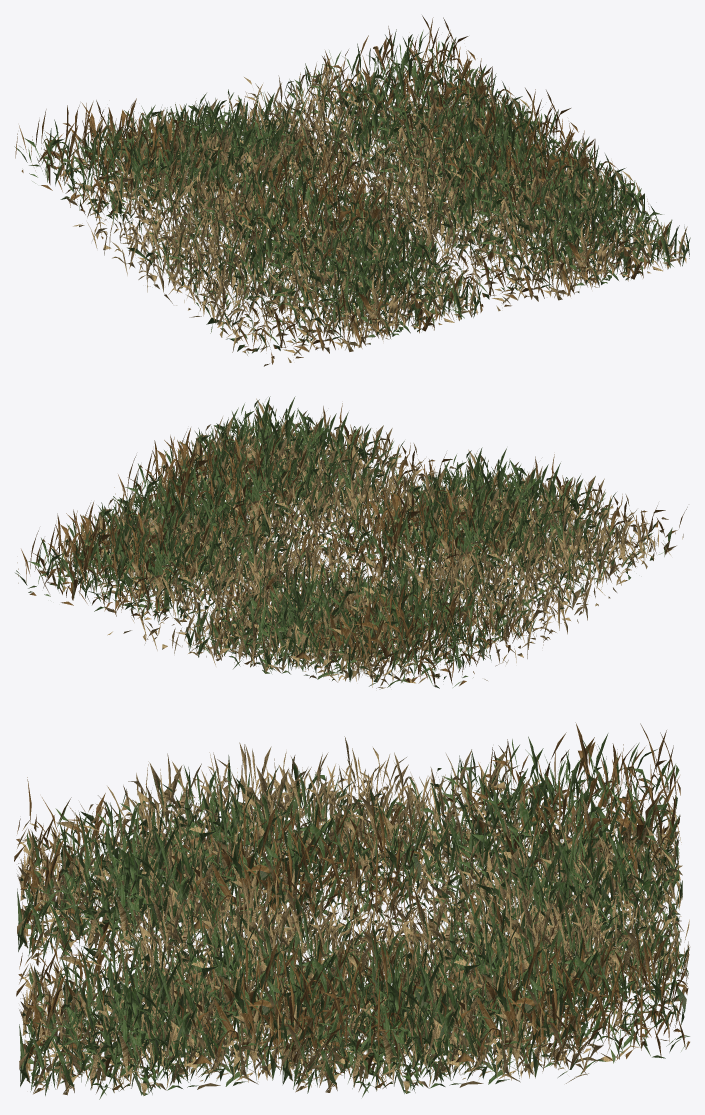
File: Grass (1).glb
3 renders of one model, top to bottom at view 1: azimuth 30°, elevation 25°; view 2: azimuth 150°, elevation 25°; view 3: azimuth 270°, elevation 25°, orthographic. The views are drawn at different scales.
Parts seen in each view (by area): view 1: Grass_Basic-dry_A_spring-summer.003; view 2: Grass_Basic-dry_A_spring-summer.003; view 3: Grass_Basic-dry_A_spring-summer.003.
Part boxes in pixels (x1=…): Grass_Basic-dry_A_spring-summer.003: x1=14, y1=15, x2=690, y2=366; Grass_Basic-dry_A_spring-summer.003: x1=15, y1=396, x2=687, y2=689; Grass_Basic-dry_A_spring-summer.003: x1=14, y1=722, x2=689, y2=1099.
Size of the model in its own units: 1.27 by 0.257 by 1.28.
3 materials, 3 textured.
